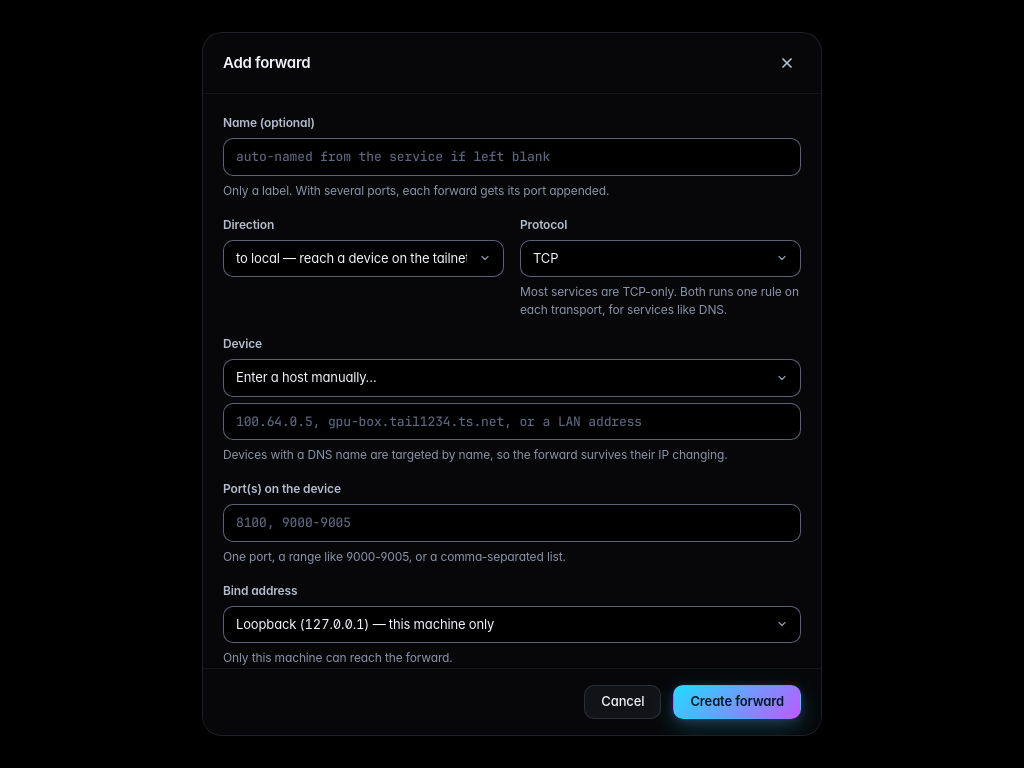
Scenario: what the dialog refuses to send › refuses a port that is not a number
The image size is (1024, 768).
Type "gpu-box" into the field named "Host" at (512, 421), box top-left (223, 402), bottom-right (801, 440)
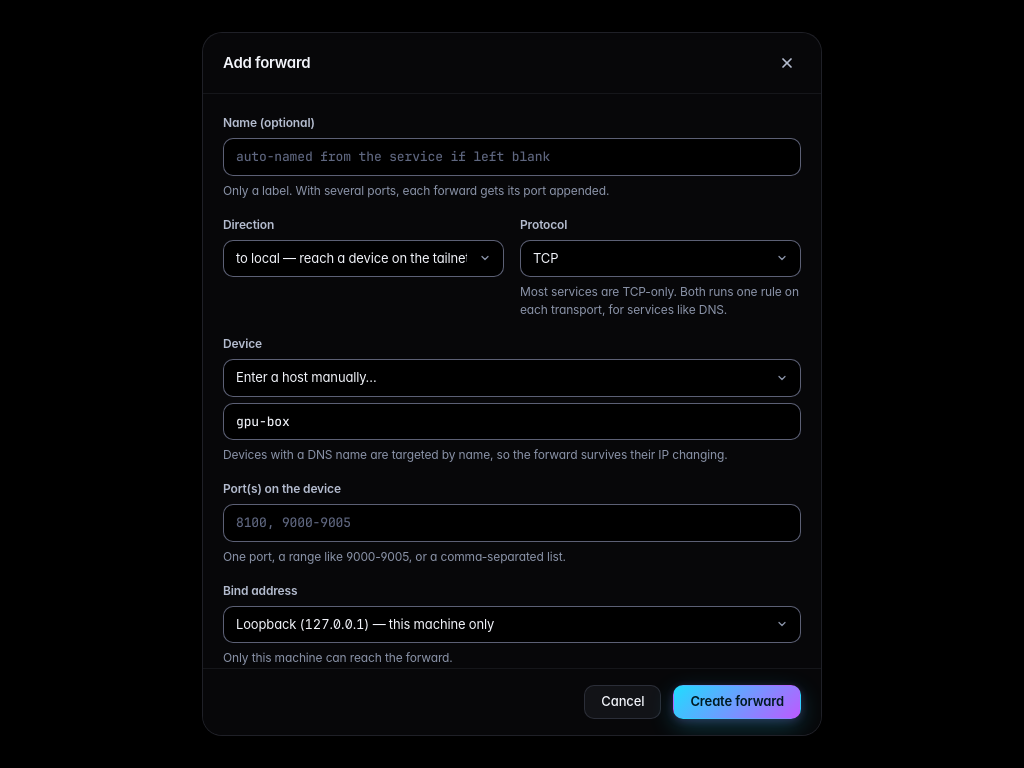
Type "ssh" into the field labelled "Port(s) on the device" at (512, 523), box top-left (223, 504), bottom-right (801, 542)
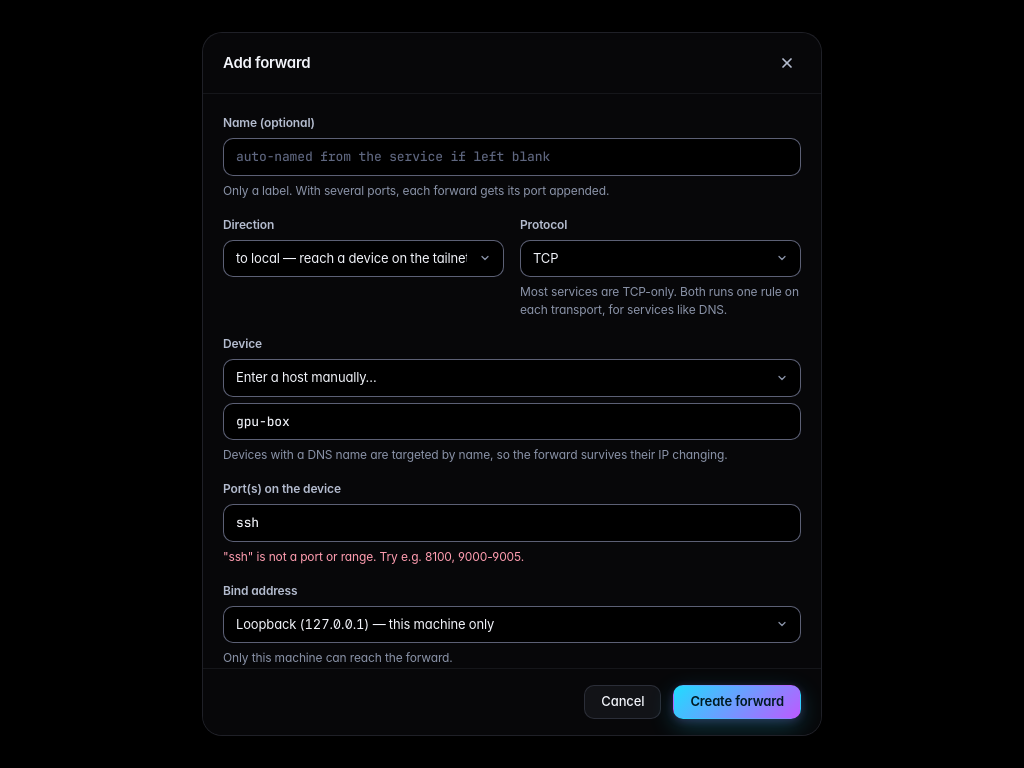
Click the button "Create forward" at (737, 702), box top-left (673, 686), bottom-right (801, 719)
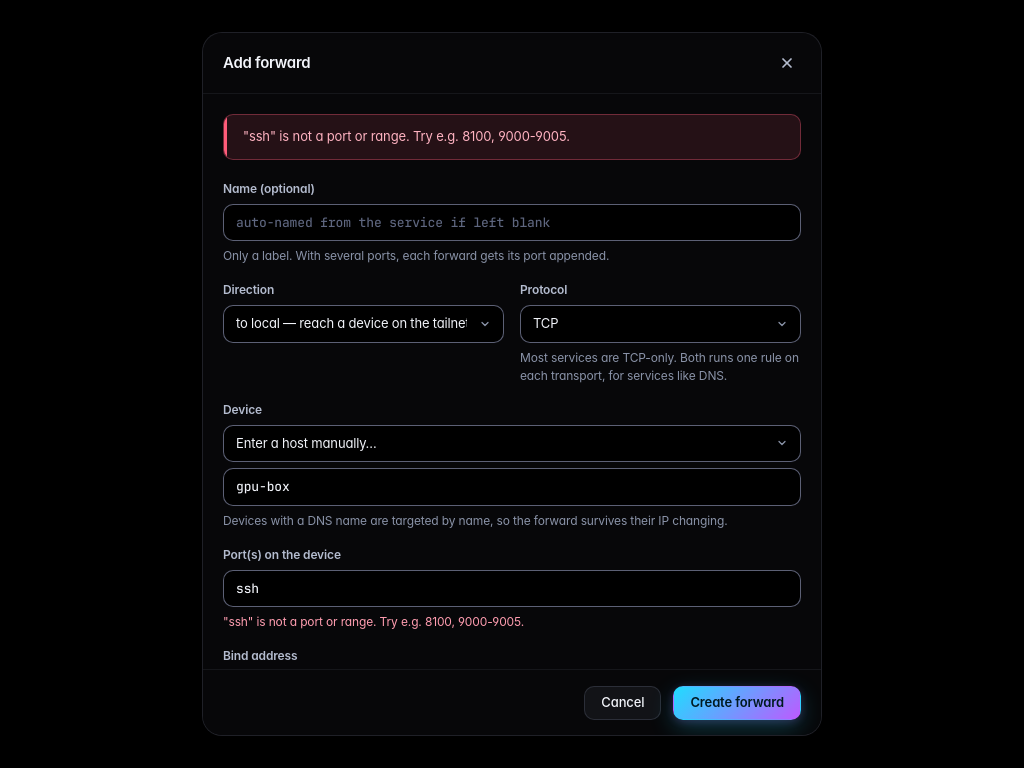
Expected: the text with class "error" reads "\"ssh\" is not a port or range. Try e.g. 8100, 9000-9005.", top-left (243, 128), bottom-right (570, 144)
